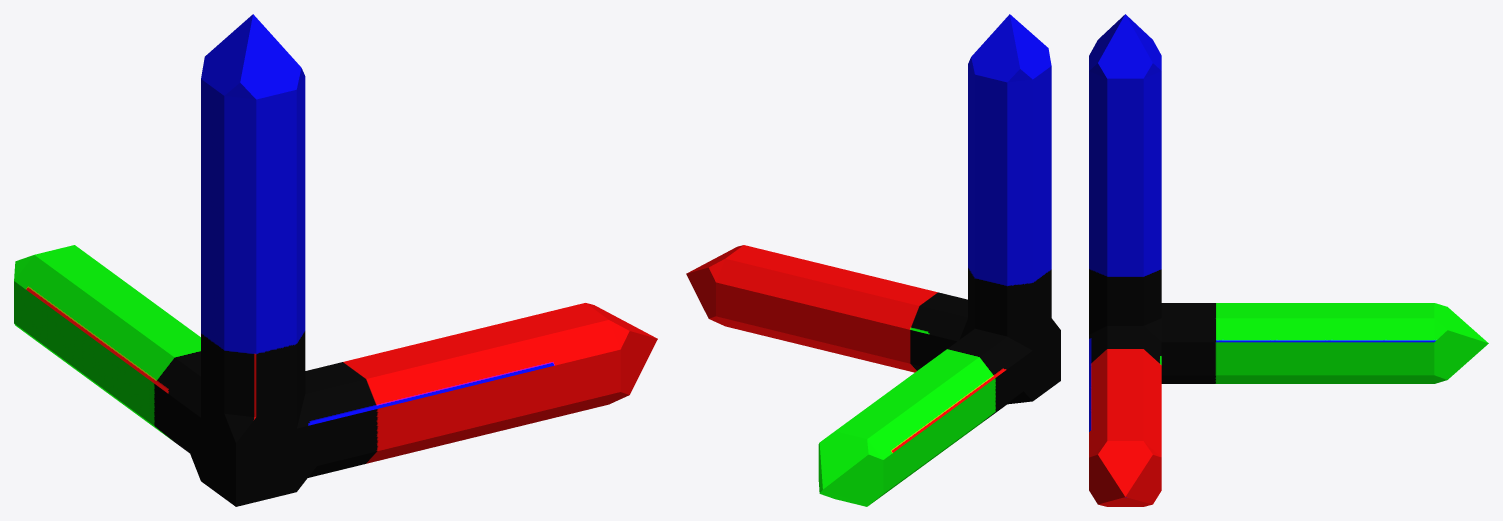
File: axis.obj
3 renders of one model, left to right at view 1: azimuth 30°, elevation 25°; view 2: azimuth 150°, elevation 25°; view 3: azimuth 270°, elevation 25°, orthographic. The views are drawn at different scales.
Parts seen in each view (by area): view 1: Cube_Cube.001; view 2: Cube_Cube.001; view 3: Cube_Cube.001.
Boxes of the visible parts, x1,y1,x2,y2 form: Cube_Cube.001: [14, 14, 657, 506]; Cube_Cube.001: [686, 14, 1060, 506]; Cube_Cube.001: [1089, 14, 1488, 506].
Bounding box in the file's own units: 11 × 11 × 11.
Materials: 1 (1 with a texture image).
